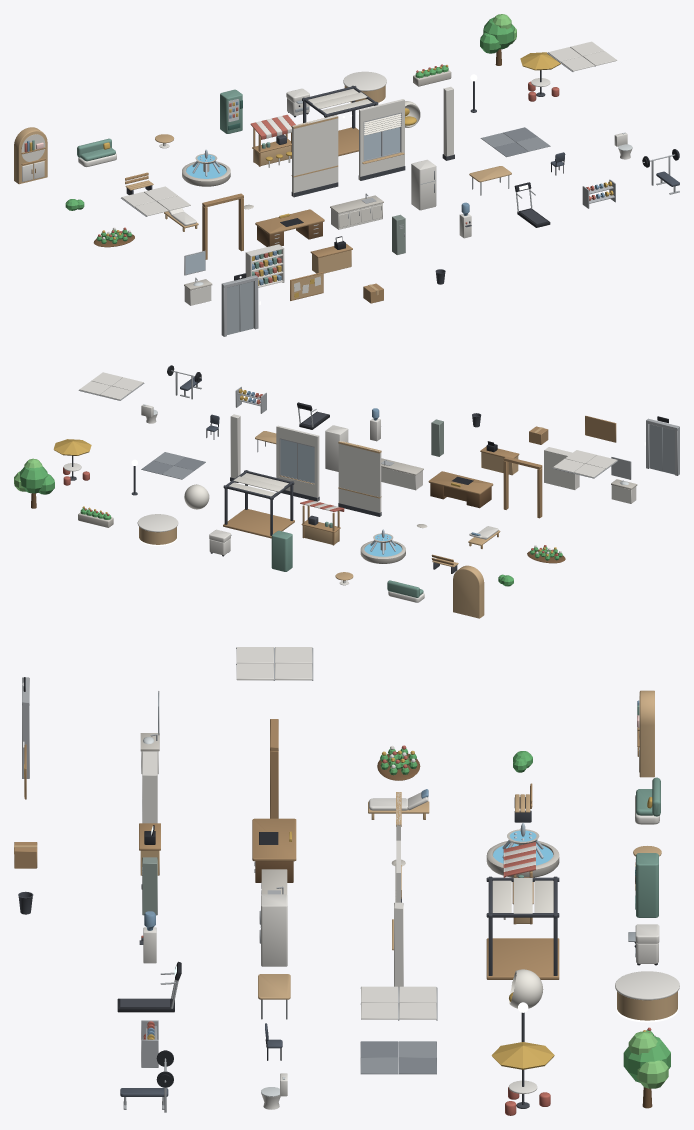
The model's file is all_props_uv_set.fbx.
3 views of the same model, one above another, from view 1: azimuth 30°, elevation 25°; view 2: azimuth 150°, elevation 25°; view 3: azimuth 270°, elevation 25° (orthographic). The views are drawn at different scales.
Parts seen in each view (by area): view 1: WallPanel_Wall, WindowPanel_Wall, ElevatorDoor_Leaves, Fridge_Body, CeilingLight_Tile, CeilingTile_Tile, WindowPanel_Glass, Pergola_Canopy, Bookshelf_Body, StoreShelf_Frame, DoorFrame_Frame, Tree_Canopy (+18 smaller); view 2: WallPanel_Wall, Bookshelf_Body, WindowPanel_Wall, WindowPanel_Glass, Pergola_Deck, ElevatorDoor_Leaves, CeilingLight_Tile, CeilingTile_Tile, StoreShelf_Frame, Pergola_Frame, Vending_Body, Tree_Canopy (+22 smaller); view 3: Pergola_Deck, CeilingLight_Tile, CeilingTile_Tile, Pergola_Canopy, Fridge_Body, BossDesk_Top, Reception_Top, Pergola_Frame, Vending_Body, Bookshelf_Body, FloorTile_TileA, FloorTile_TileB (+15 smaller).
Part boxes in pixels (box(x1,y1,x2,y2)): WallPanel_Wall: box(292, 115, 338, 196); WindowPanel_Wall: box(359, 99, 404, 180); ElevatorDoor_Leaves: box(227, 281, 253, 334); Fridge_Body: box(411, 159, 436, 210); CeilingLight_Tile: box(121, 186, 190, 216); CeilingTile_Tile: box(548, 41, 617, 71); WindowPanel_Glass: box(364, 123, 400, 160); Pergola_Canopy: box(308, 88, 372, 113); Bookshelf_Body: box(14, 127, 47, 184); StoreShelf_Frame: box(245, 244, 284, 287); DoorFrame_Frame: box(202, 193, 243, 259); Tree_Canopy: box(480, 17, 514, 53); WallPanel_Wall: box(338, 440, 381, 515); Bookshelf_Body: box(453, 565, 484, 618); WindowPanel_Wall: box(276, 425, 319, 501); WindowPanel_Glass: box(280, 439, 314, 482); Pergola_Deck: box(223, 509, 294, 538); ElevatorDoor_Leaves: box(649, 424, 674, 474); CeilingLight_Tile: box(553, 450, 617, 477); CeilingTile_Tile: box(79, 372, 143, 399); StoreShelf_Frame: box(544, 447, 579, 489); Pergola_Frame: box(223, 470, 294, 535); Vending_Body: box(271, 530, 292, 571); Tree_Canopy: box(19, 466, 54, 494); Pergola_Deck: box(486, 938, 559, 979); CeilingLight_Tile: box(236, 647, 312, 680); CeilingTile_Tile: box(361, 986, 436, 1019); Pergola_Canopy: box(492, 878, 553, 913); Fridge_Body: box(261, 894, 287, 966); BossDesk_Top: box(252, 818, 296, 861); Reception_Top: box(615, 971, 679, 1000); Pergola_Frame: box(486, 876, 559, 975); Vending_Body: box(636, 853, 658, 917); Bookshelf_Body: box(639, 690, 654, 777); FloorTile_TileA: box(360, 1041, 436, 1074); FloorTile_TileB: box(360, 1041, 436, 1074).
Size of the model in its own units: 92.07 by 12.3 by 69.62.
